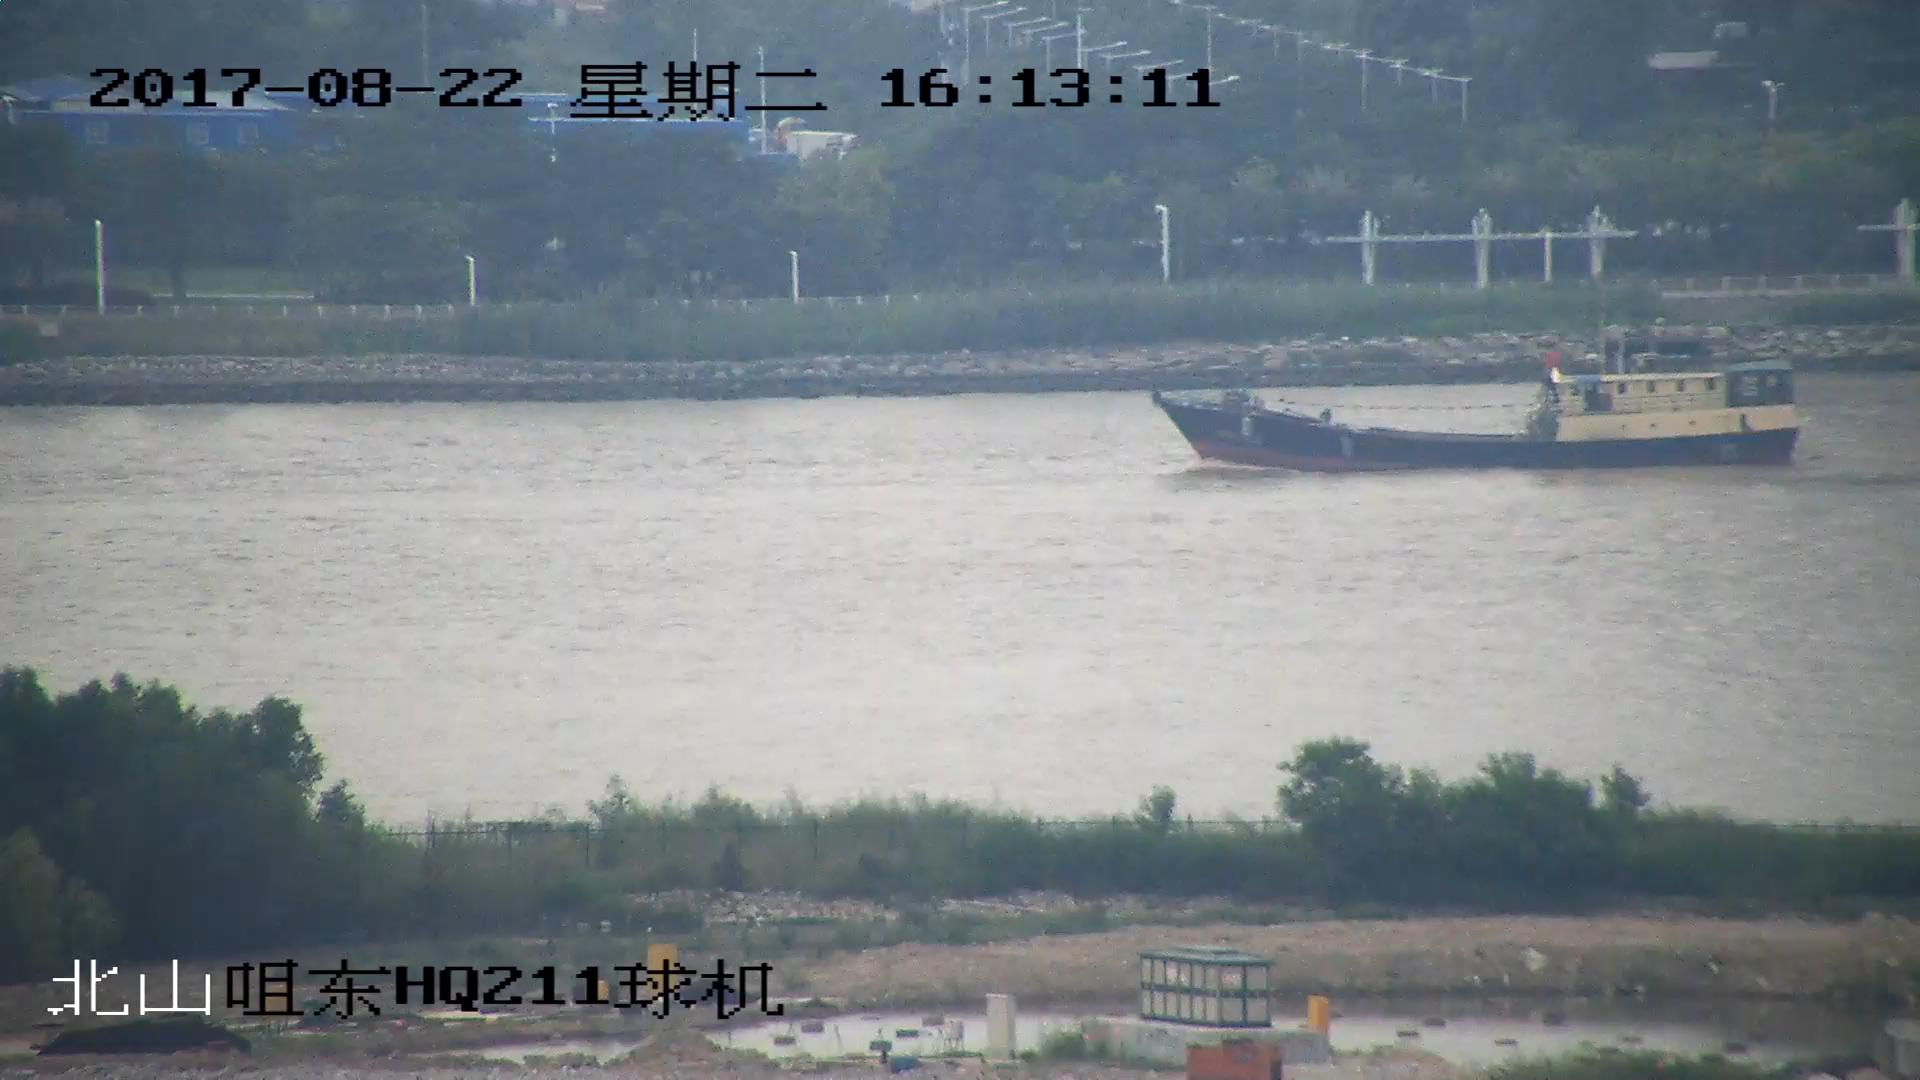fishing boat: (1156, 324, 1804, 469)
